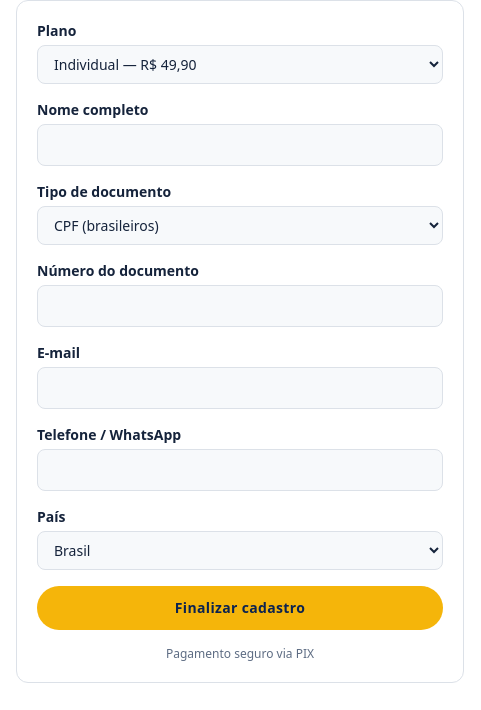
it: RegisterForm › never reports success when there is no checkout link
Type "Ana" into the field labelled "Nome completo". click: (240, 145)
box: [37,124,443,166]
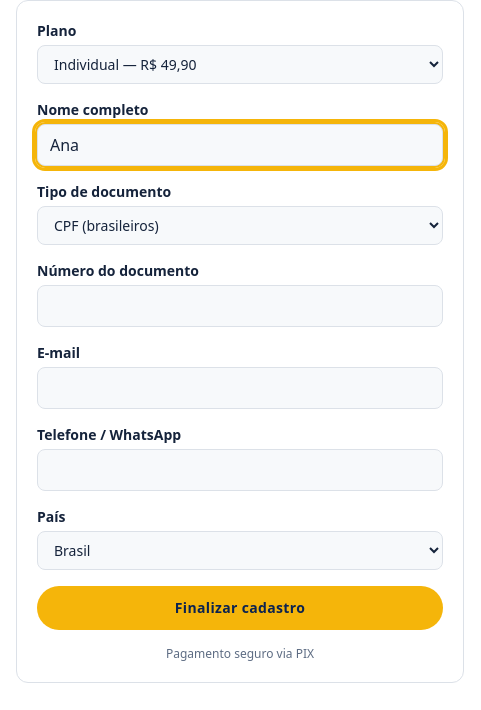
Type "a@b.com" into the field labelled "E-mail". click: (240, 388)
box: [37,367,443,409]
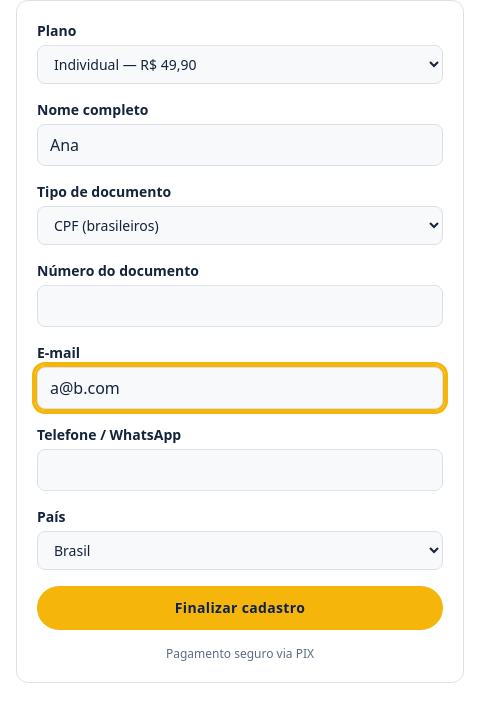
Type "12345678900" into the field labelled "Número do documento". click: (240, 306)
box: [37,285,443,327]
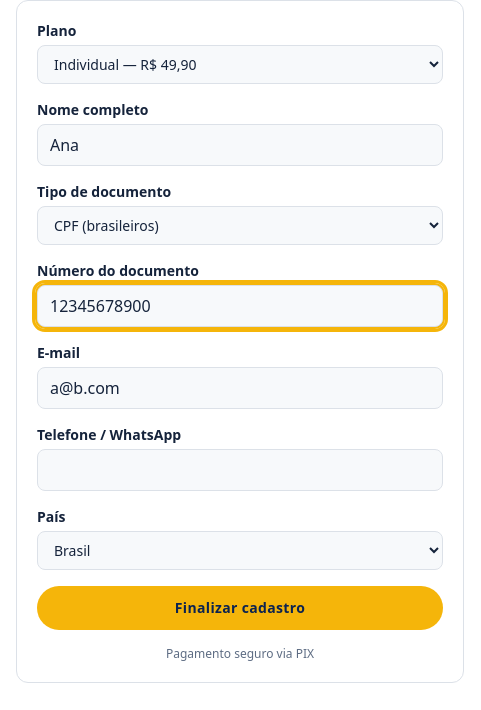
Type "47999998888" into the field labelled "Telefone / WhatsApp". click: (240, 470)
box: [37,449,443,491]
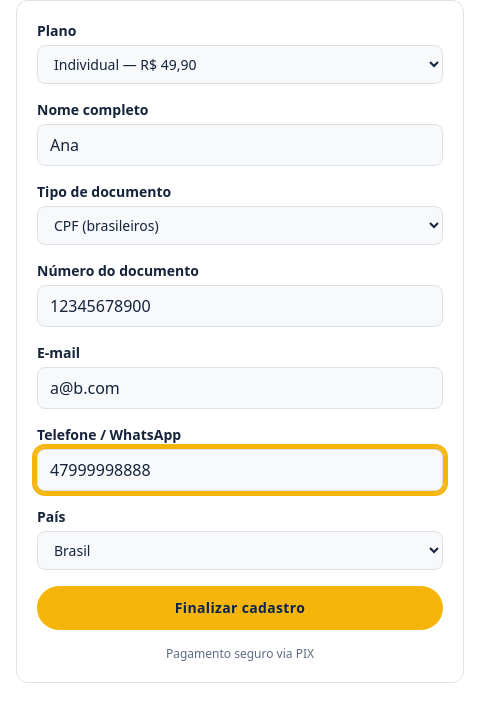
Click the button "Finalizar cadastro". click: (240, 608)
box: [37,586,443,630]
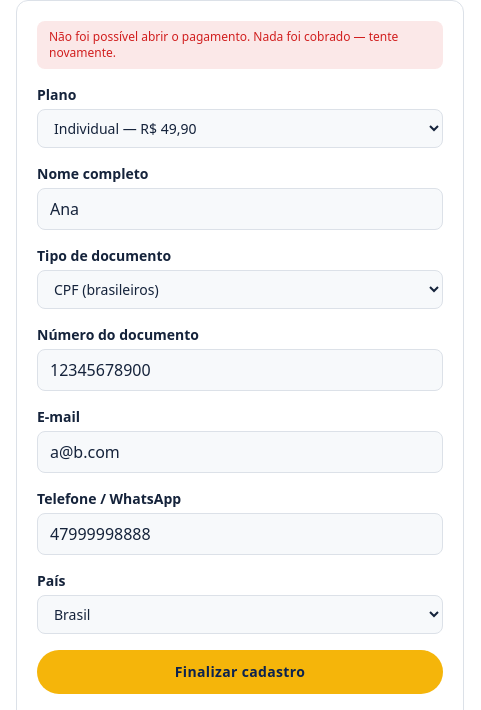
Expected: the message "Não foi possível abrir o pagamento. Nada foi cobrado — tente novamente." is shown, [37,21,443,69]
